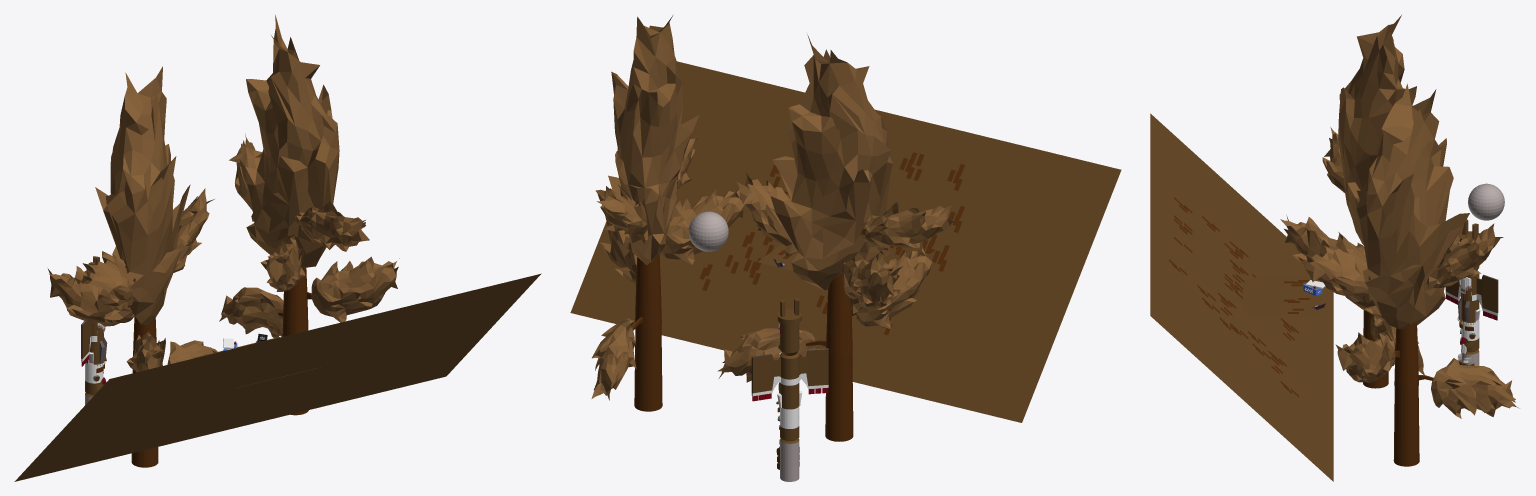
Rendered from welcome.glb.
The picture shows the model from 3 angles, left to right: view 1: azimuth 30°, elevation 25°; view 2: azimuth 150°, elevation 25°; view 3: azimuth 270°, elevation 25°; orthographic projection. The views are drawn at different scales.
Parts seen in each view (by area): view 1: Plane, pine.001, pine, Cylinder.001; view 2: Plane, pine, pine.001, Cylinder.001, Sphere; view 3: Plane, pine.001, pine, Cylinder.001, Sphere.
Part boxes in pixels (x1=…): Plane: x1=14, y1=273, x2=541, y2=481; pine.001: x1=219, y1=15, x2=399, y2=415; pine: x1=48, y1=66, x2=217, y2=467; Cylinder.001: x1=81, y1=256, x2=107, y2=404; Plane: x1=570, y1=61, x2=1121, y2=422; pine: x1=717, y1=34, x2=954, y2=441; pine.001: x1=591, y1=15, x2=744, y2=411; Cylinder.001: x1=751, y1=298, x2=828, y2=481; Sphere: x1=688, y1=211, x2=728, y2=251; Plane: x1=1150, y1=113, x2=1333, y2=481; pine.001: x1=1299, y1=83, x2=1519, y2=466; pine: x1=1280, y1=15, x2=1424, y2=388; Cylinder.001: x1=1445, y1=219, x2=1498, y2=365; Sphere: x1=1468, y1=183, x2=1504, y2=220.
Size of the model in its own units: 519 by 447 by 402.
5 materials, 5 textured.
